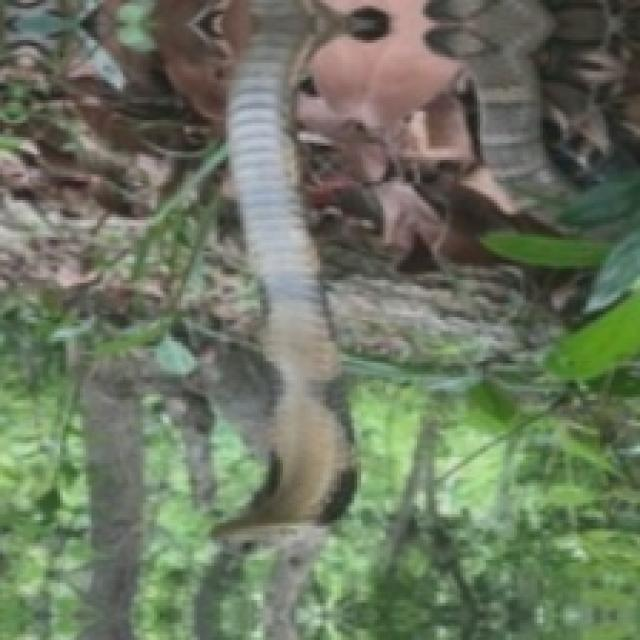king cobra: (217, 0, 351, 537)
